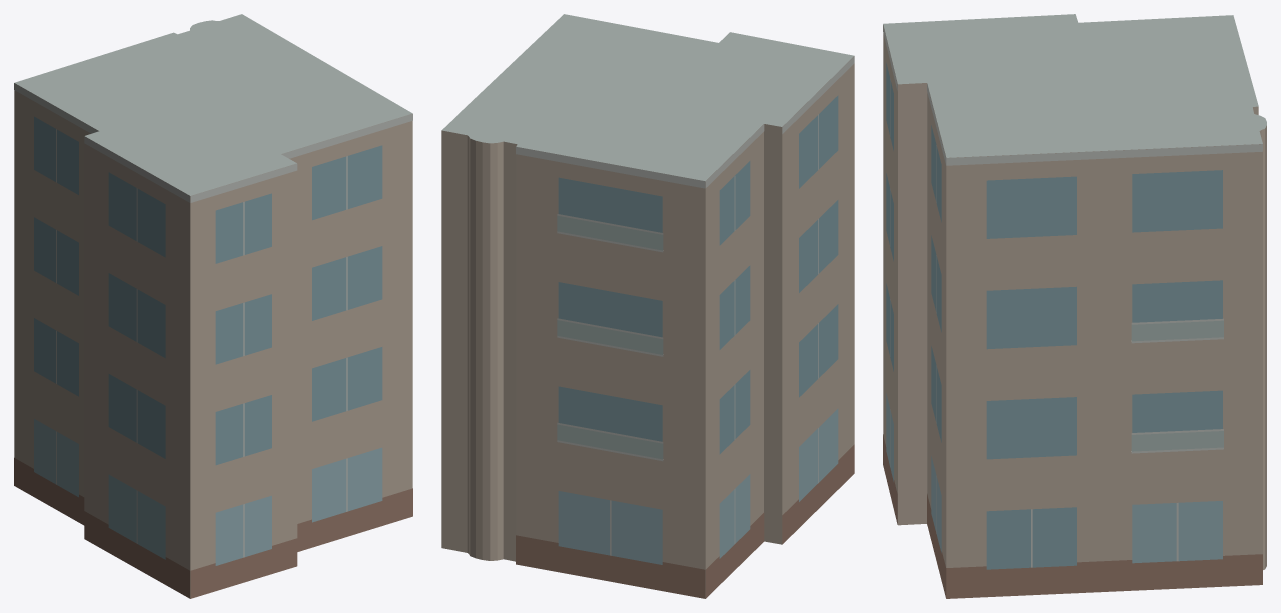
File: survey-upis-32903918.glb
The picture shows the model from 3 angles, left to right: view 1: azimuth 30°, elevation 25°; view 2: azimuth 150°, elevation 25°; view 3: azimuth 270°, elevation 25°; orthographic projection. The views are drawn at different scales.
Parts seen in each view (by area): view 1: survey-upis-32903918.tmp; view 2: survey-upis-32903918.tmp; view 3: survey-upis-32903918.tmp.
Boxes of the visible parts, x1=… form: survey-upis-32903918.tmp: x1=14, y1=14, x2=412, y2=598; survey-upis-32903918.tmp: x1=441, y1=14, x2=854, y2=598; survey-upis-32903918.tmp: x1=883, y1=14, x2=1266, y2=598.
Bounding box in the file's own units: 9.6 × 13.7 × 10.81.
